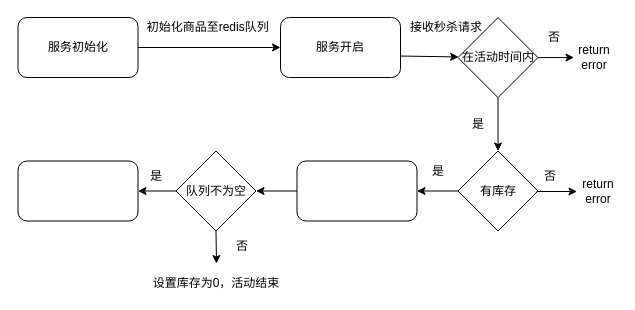
Image size: 635x310. Some labels were removed from this diagram. The shapes that lost their labels are listed below. From the top down, each one's centre as x and y in pixels, then its label:
At (x=77, y=190): "服务返回成功".
At (x=356, y=190): "服务从队列取商品".
